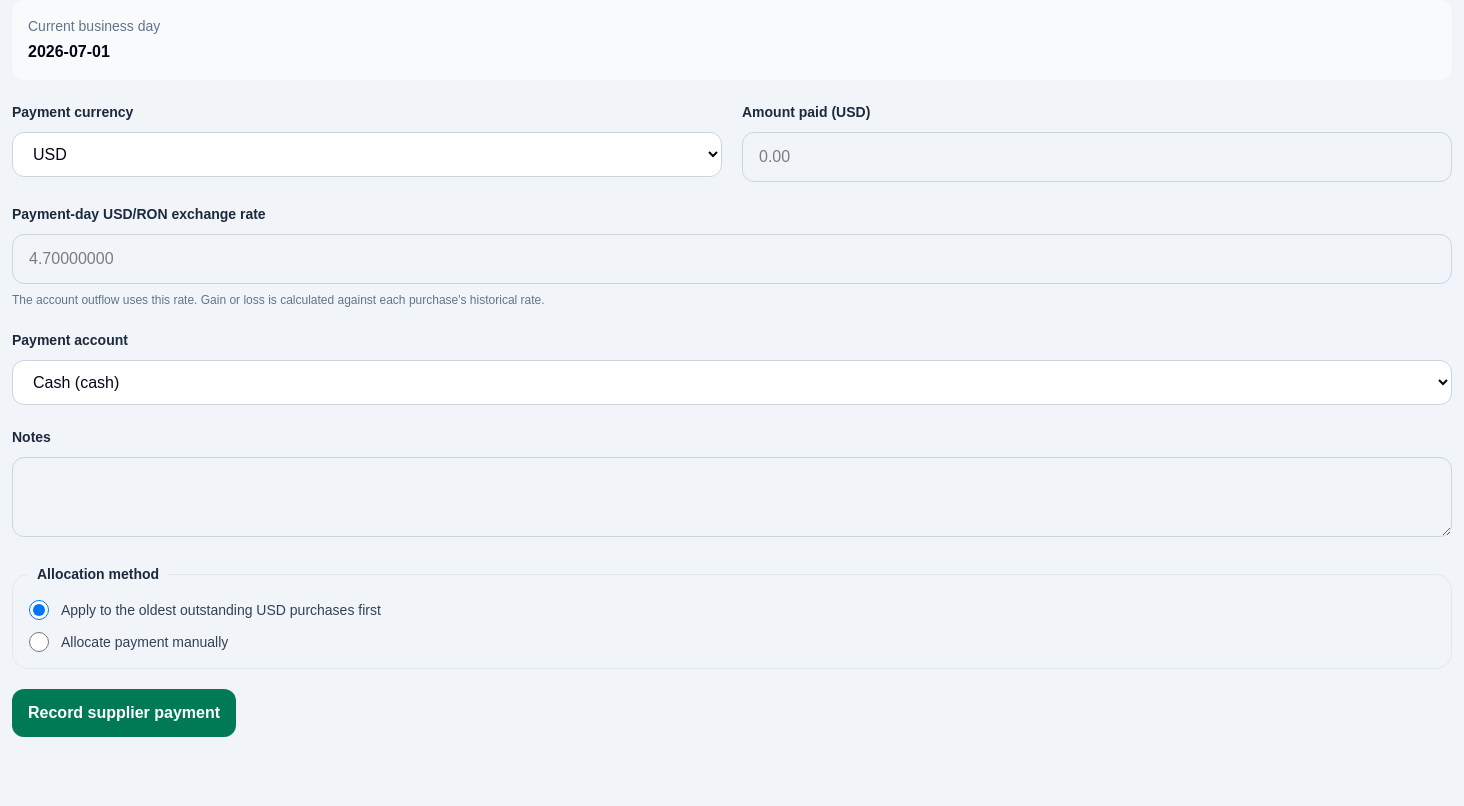
it: supplier payment forms › allows employees to manually allocate matching-currency purchases
The width and height of the screenshot is (1464, 806).
Step 1. Click the radio button labelled "Allocate payment manually" → {"x": 39, "y": 642}, box [29,632,49,652]
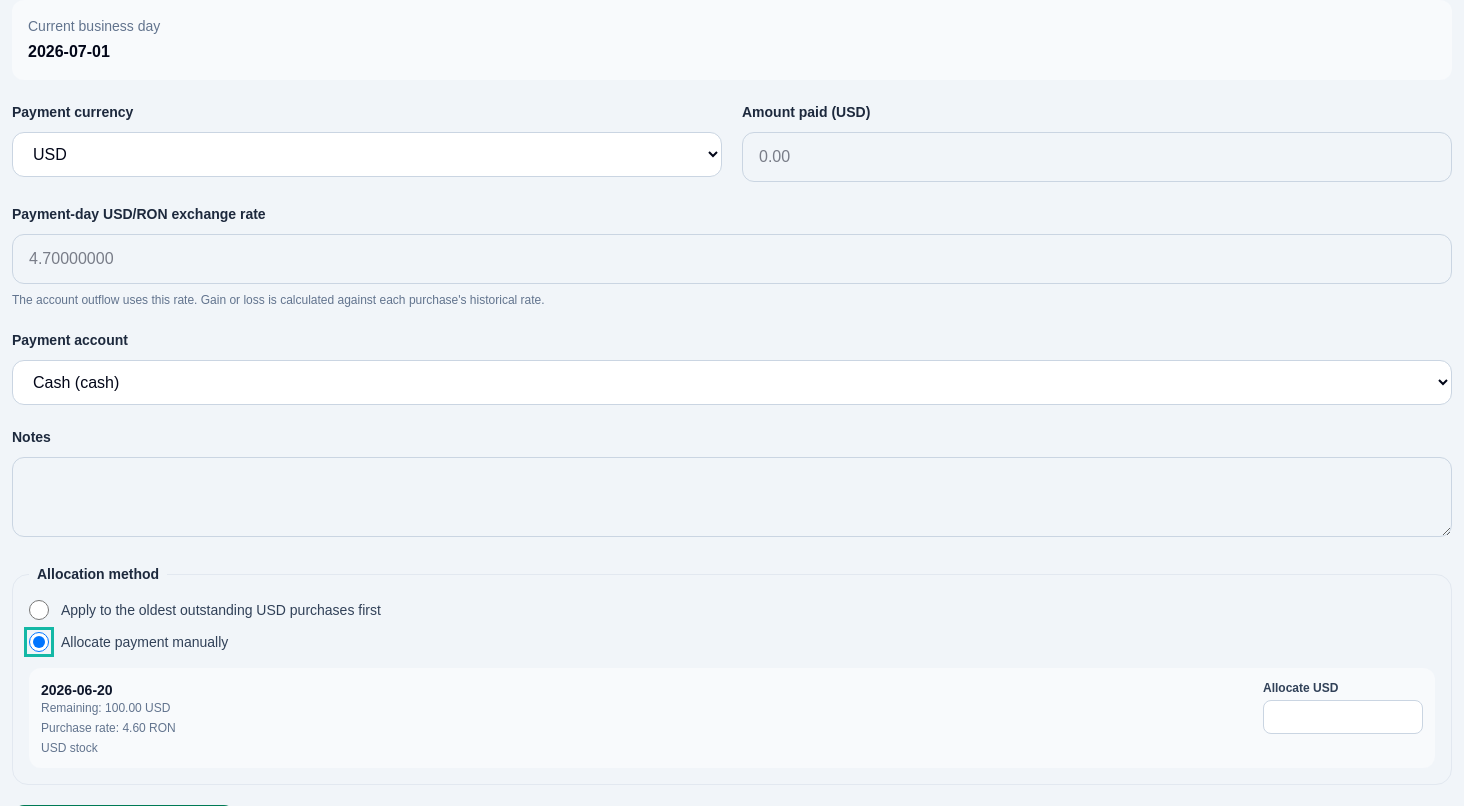
Result: the field named "Allocate to supplier purchase from 2026-06-20" is shown at [1263,700,1423,734]
